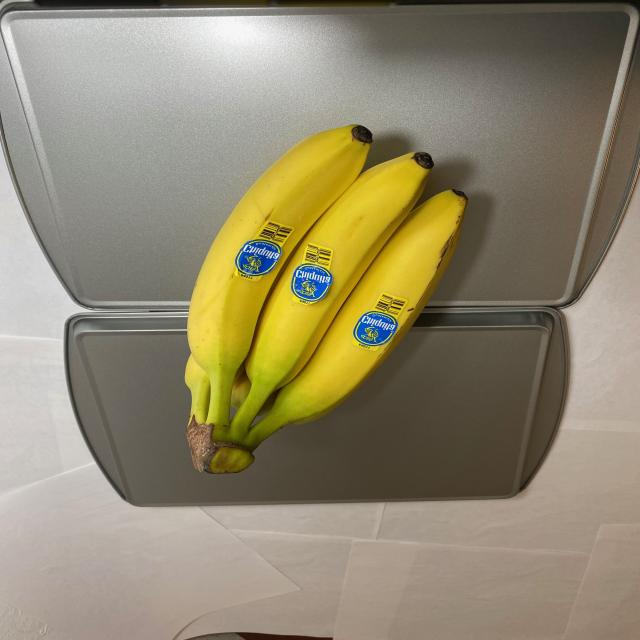banana: (175, 117, 470, 477)
